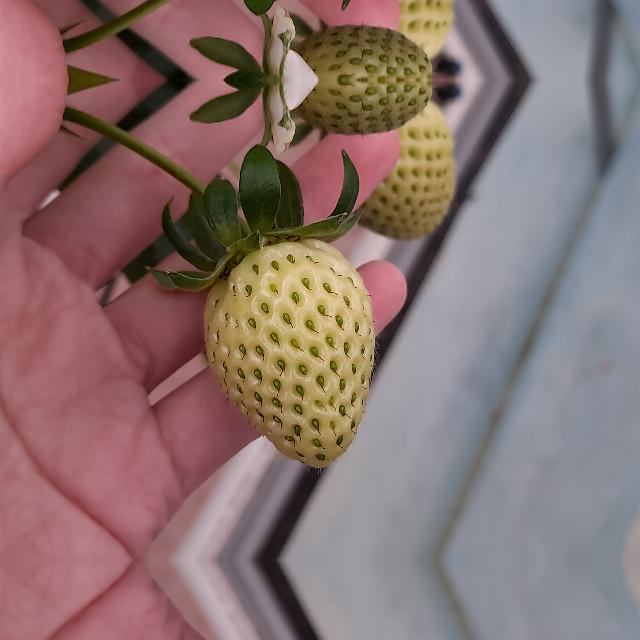Health_25: (202, 238, 376, 468)
